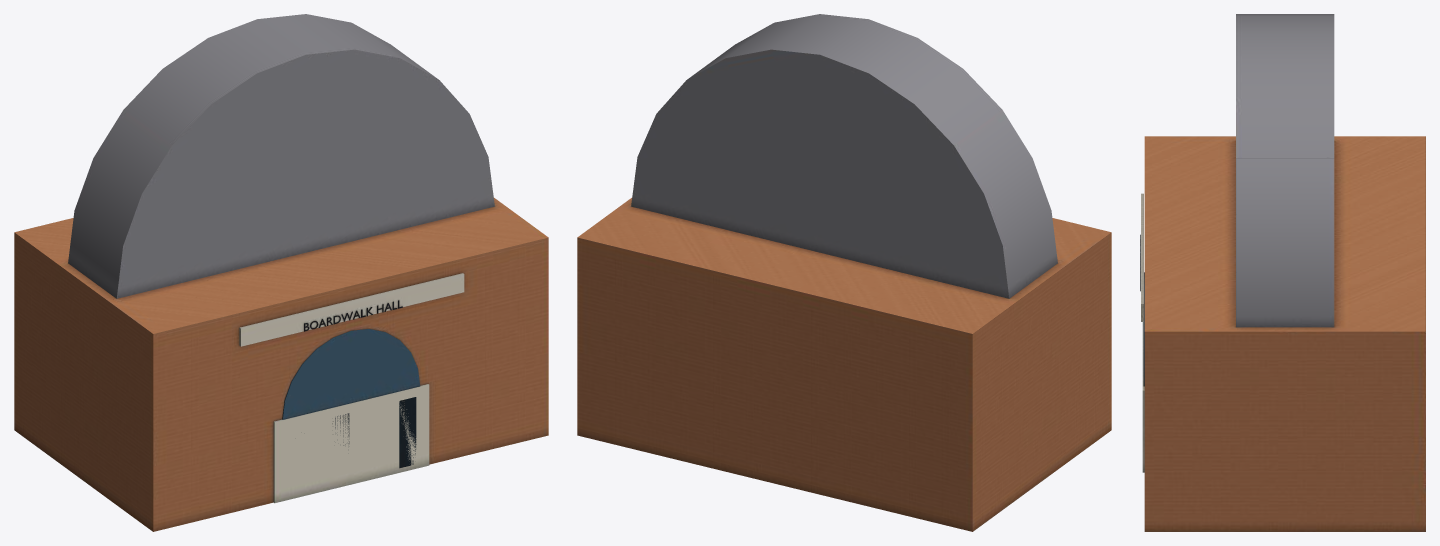
Rendered from boardwalk_hall.glb.
The picture shows the model from 3 angles, left to right: view 1: azimuth 30°, elevation 25°; view 2: azimuth 150°, elevation 25°; view 3: azimuth 270°, elevation 25°; orthographic projection.
Parts seen in each view (by area): view 1: boardwalk_hall; view 2: boardwalk_hall; view 3: boardwalk_hall.
Boxes of the visible parts, x1=… form: boardwalk_hall: x1=14, y1=14, x2=548, y2=531; boardwalk_hall: x1=577, y1=14, x2=1111, y2=531; boardwalk_hall: x1=1140, y1=14, x2=1425, y2=531.
Bounding box in the file's own units: 46 × 44 × 28.45.
1 material, 1 textured.
